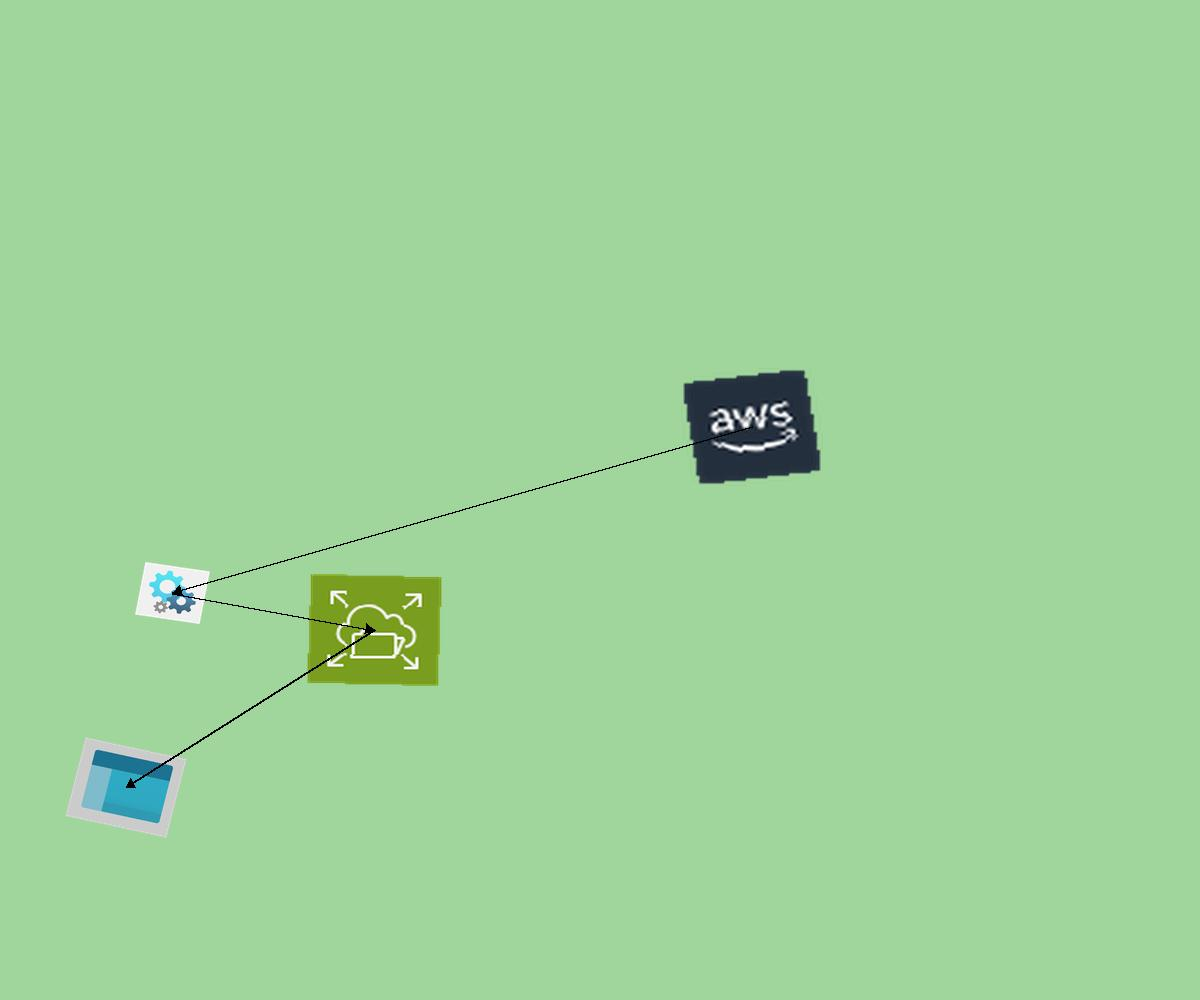AWS-Cloud-logo: (681, 368, 823, 486)
AWS-EFS: (306, 573, 443, 687)
Azure_api: (135, 562, 210, 624)
Azure_management-portal: (65, 737, 187, 838)
